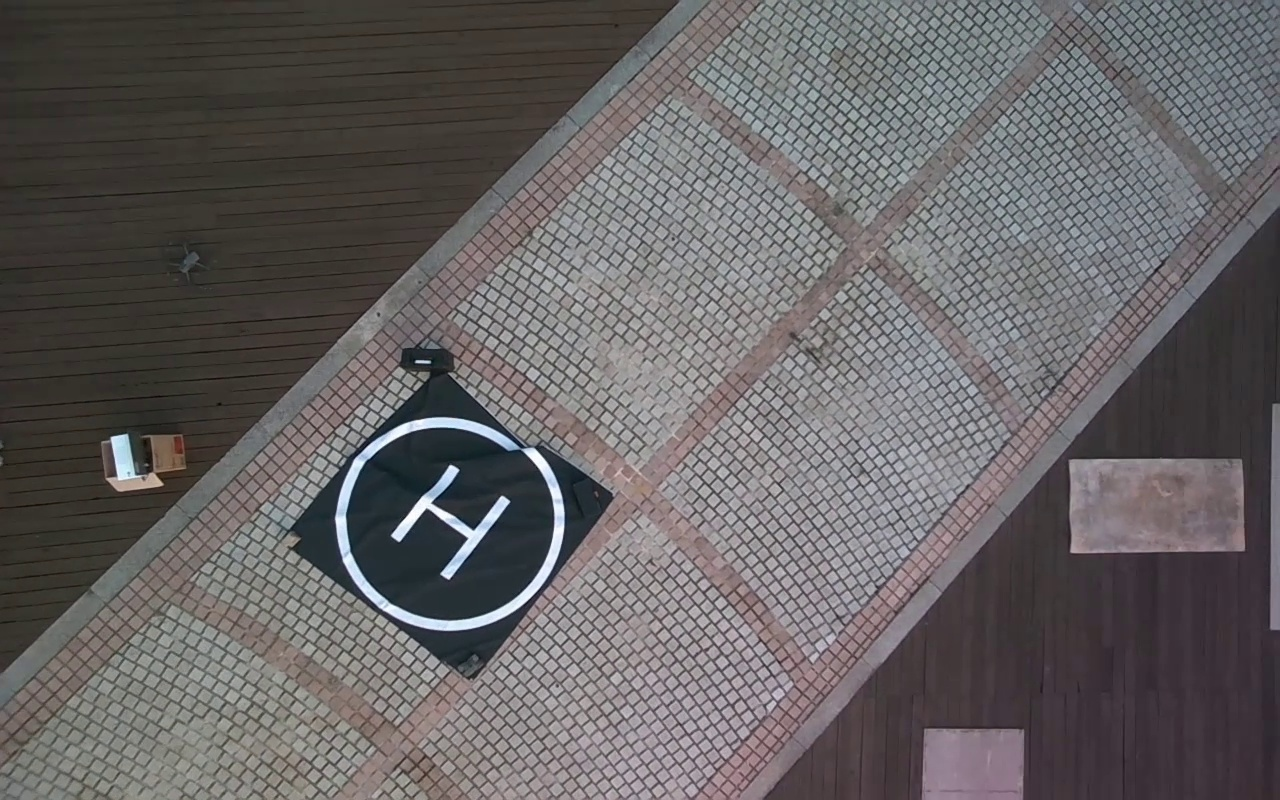H: (389, 464, 513, 581)
